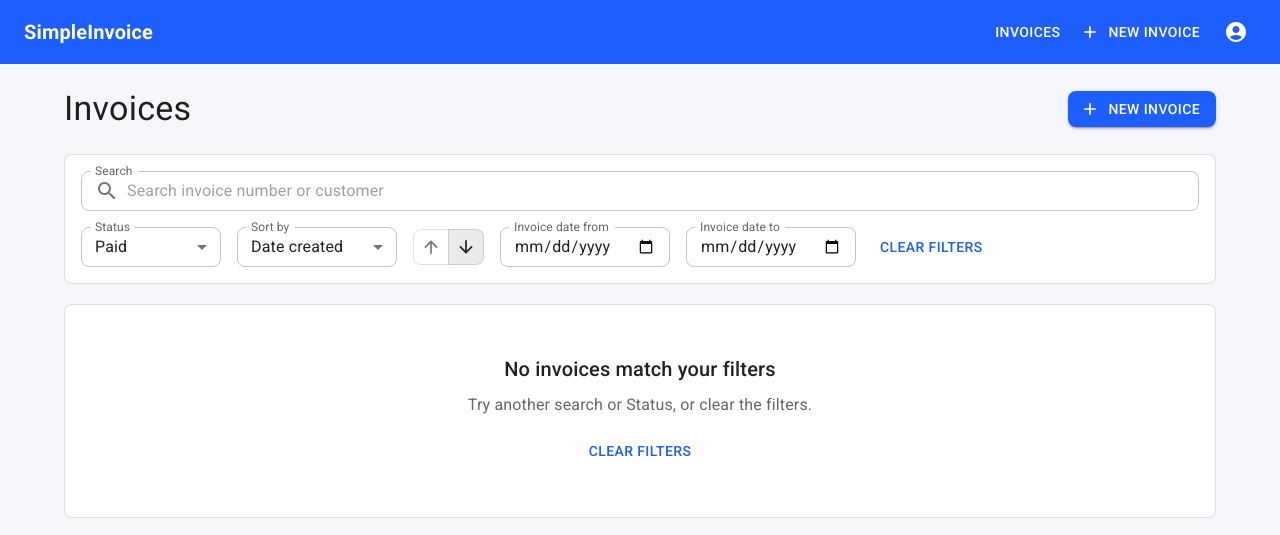
it: InvoiceListPage › clears a date draft with the Clear filters button of an empty list too
The width and height of the screenshot is (1280, 535).
Type "0002-01-01" into the date field labelled "Invoice date from".
click(585, 247); type("0002-01-01")  # box left=500, top=227, right=670, bottom=267
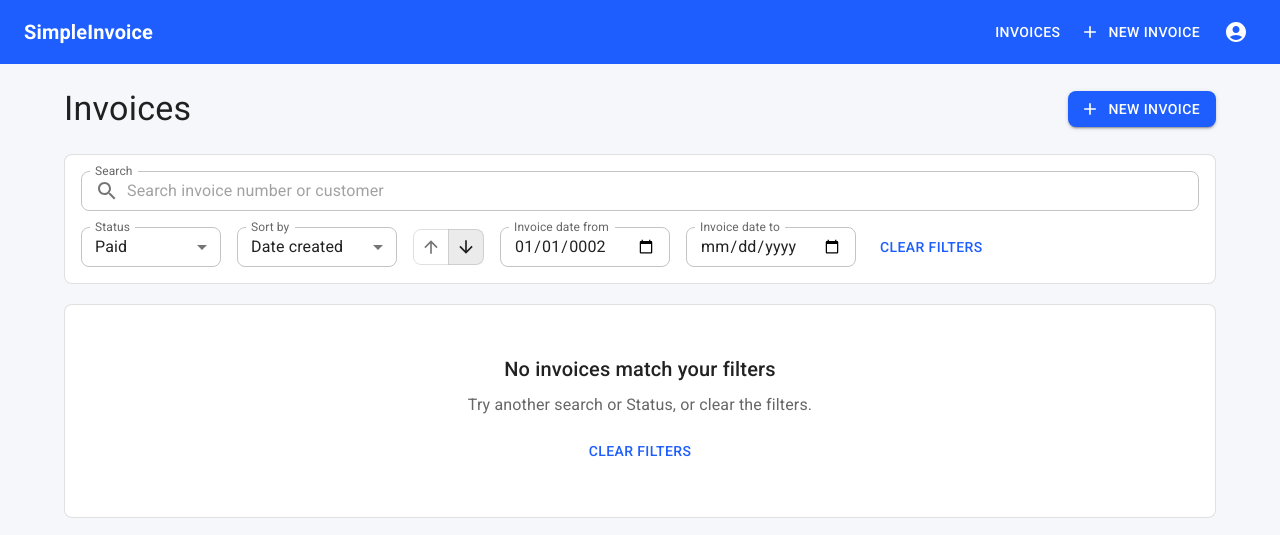
Click the button "Clear filters" below "No invoices match your filters".
click(640, 451)  # box left=581, top=433, right=699, bottom=470
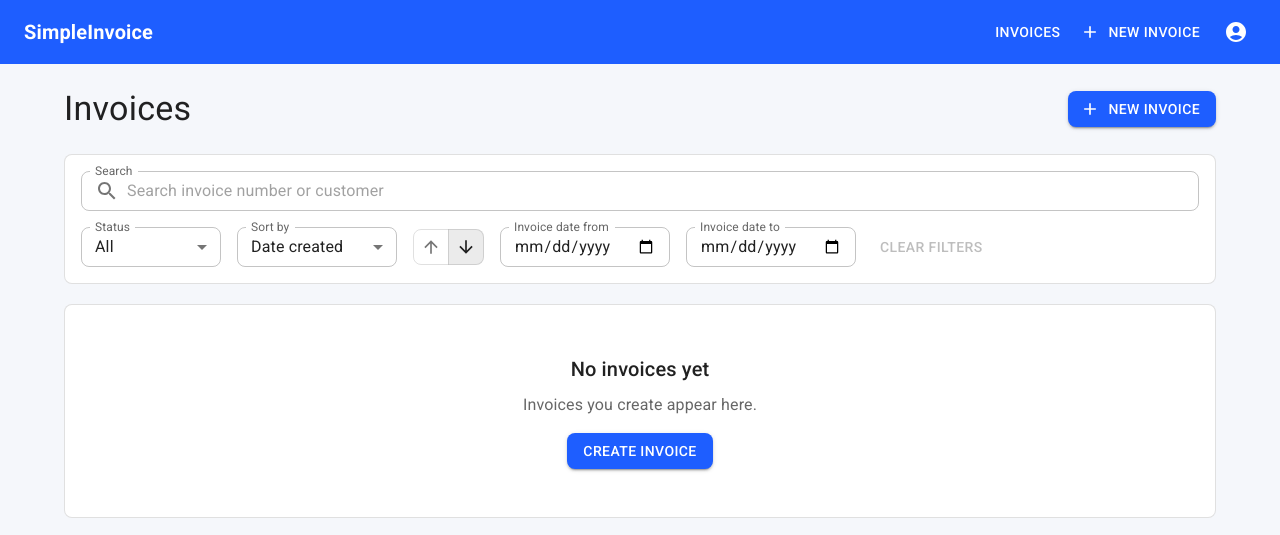
Expected: the date field labelled "Invoice date to" is empty, left=686, top=227, right=856, bottom=267
Expected: the text "No invoices yet" is shown, left=571, top=353, right=709, bottom=385
Expected: the date field labelled "Invoice date from" is empty, left=500, top=227, right=670, bottom=267
